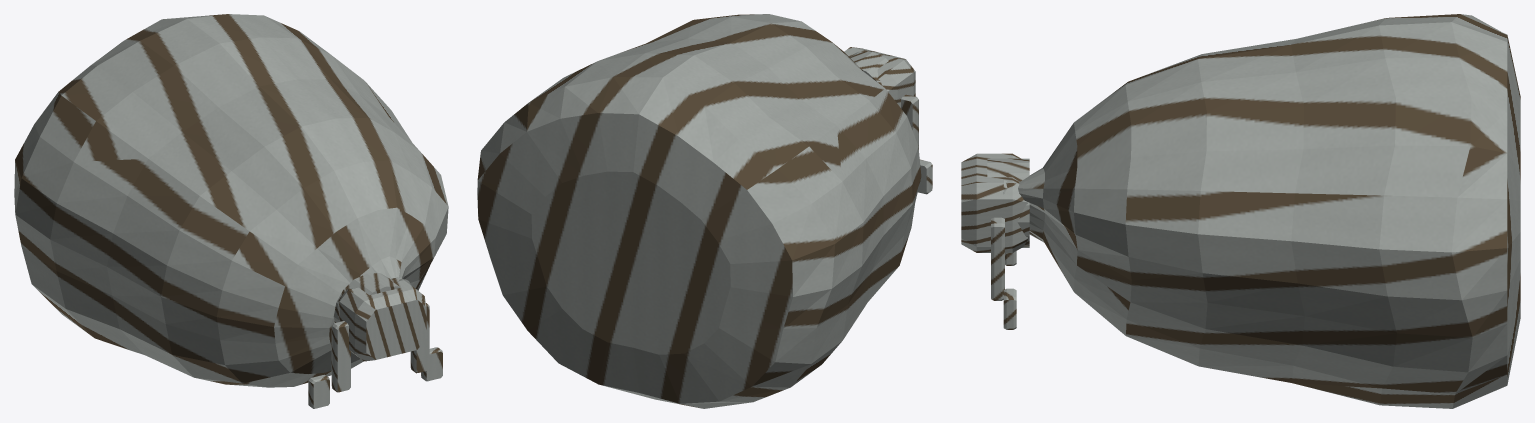
File: PZ_DST_04_Trash_Bag_Sage_70L.glb
3 renders of one model, left to right at view 1: azimuth 30°, elevation 25°; view 2: azimuth 150°, elevation 25°; view 3: azimuth 270°, elevation 25°, orthographic. The views are drawn at different scales.
Parts seen in each view (by area): view 1: BAG_01_SealedOrganicLobedBody, BAG_03_TiedKnot_CrumpledPolymer, BAG_04_TwistTies_FreeLoopEnds, BAG_02_NeckTighteningBand; view 2: BAG_01_SealedOrganicLobedBody, BAG_03_TiedKnot_CrumpledPolymer, BAG_04_TwistTies_FreeLoopEnds, BAG_02_NeckTighteningBand; view 3: BAG_01_SealedOrganicLobedBody, BAG_03_TiedKnot_CrumpledPolymer, BAG_04_TwistTies_FreeLoopEnds, BAG_02_NeckTighteningBand.
Part boxes in pixels (box(x1,y1,x2,y2)): BAG_01_SealedOrganicLobedBody: box(14, 14, 448, 387); BAG_03_TiedKnot_CrumpledPolymer: box(337, 277, 426, 361); BAG_04_TwistTies_FreeLoopEnds: box(308, 303, 442, 408); BAG_02_NeckTighteningBand: box(333, 273, 400, 322); BAG_01_SealedOrganicLobedBody: box(477, 14, 921, 408); BAG_03_TiedKnot_CrumpledPolymer: box(844, 47, 915, 107); BAG_04_TwistTies_FreeLoopEnds: box(901, 94, 932, 194); BAG_02_NeckTighteningBand: box(850, 51, 888, 85); BAG_01_SealedOrganicLobedBody: box(1003, 14, 1520, 408); BAG_03_TiedKnot_CrumpledPolymer: box(961, 153, 1027, 252); BAG_04_TwistTies_FreeLoopEnds: box(991, 217, 1016, 329); BAG_02_NeckTighteningBand: box(987, 158, 1029, 247).
Size of the model in its own units: 0.5627 by 0.4772 by 0.6865.
1 material, 1 textured.
